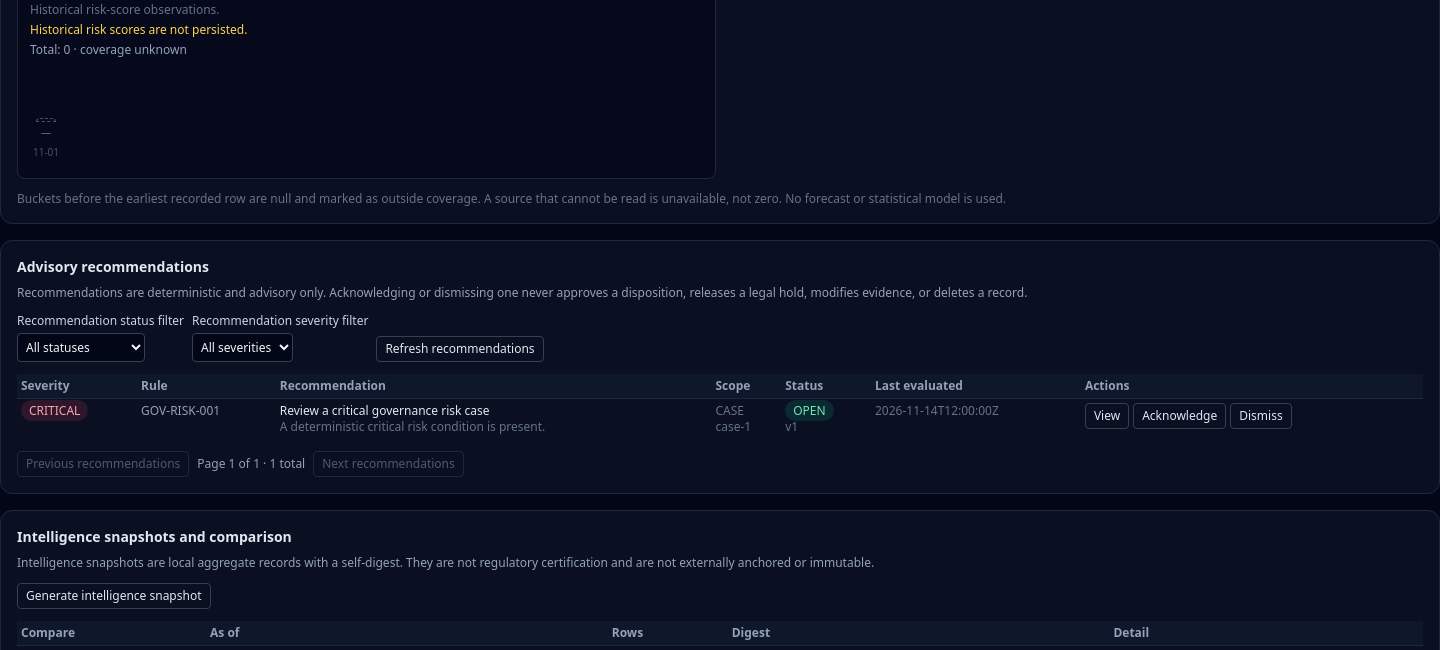
Test: IntelligenceWorkspace › requires an explicit reason before dismissing and sends the expected version
(page scrolled)
Step 1. Click the button "Dismiss" → (1261, 416), box [1230, 403, 1292, 429]
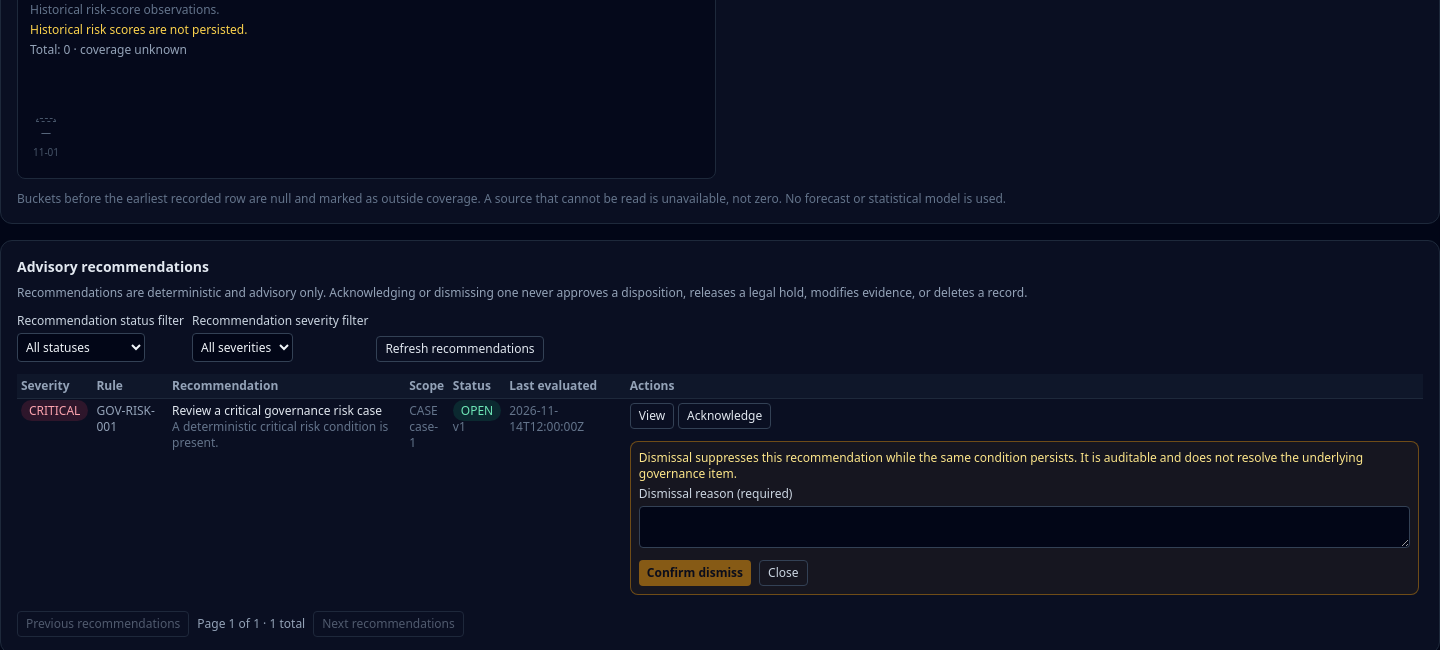
expect the text "Dismissal suppresses this recommendation" is shown: met, box [639, 449, 1363, 482]
expect the button "Confirm dismiss" is disabled: met, box [639, 560, 751, 586]
Step 2. Type "Duplicate of an existing review task." into the text box labelled "Dismissal reason (required)" → (1024, 527), box [639, 506, 1410, 548]
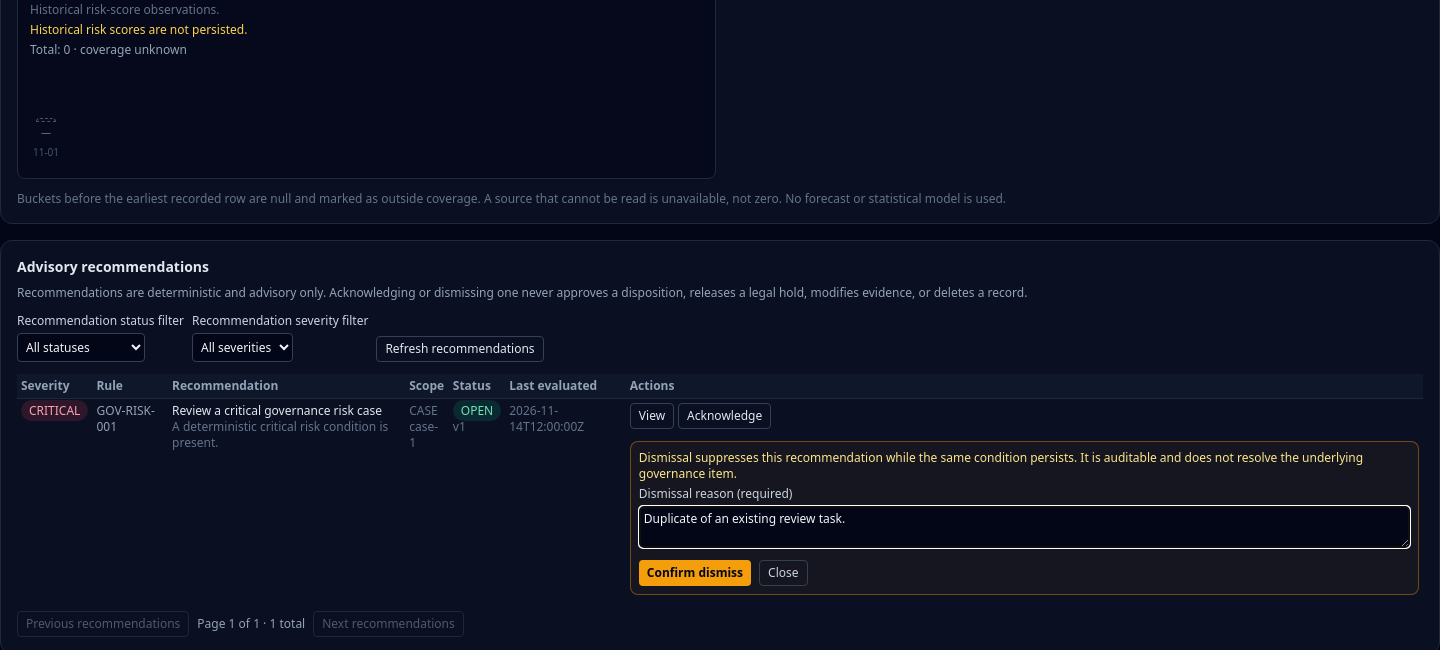
Step 3. Click the button "Confirm dismiss" → (695, 573), box [639, 560, 751, 586]
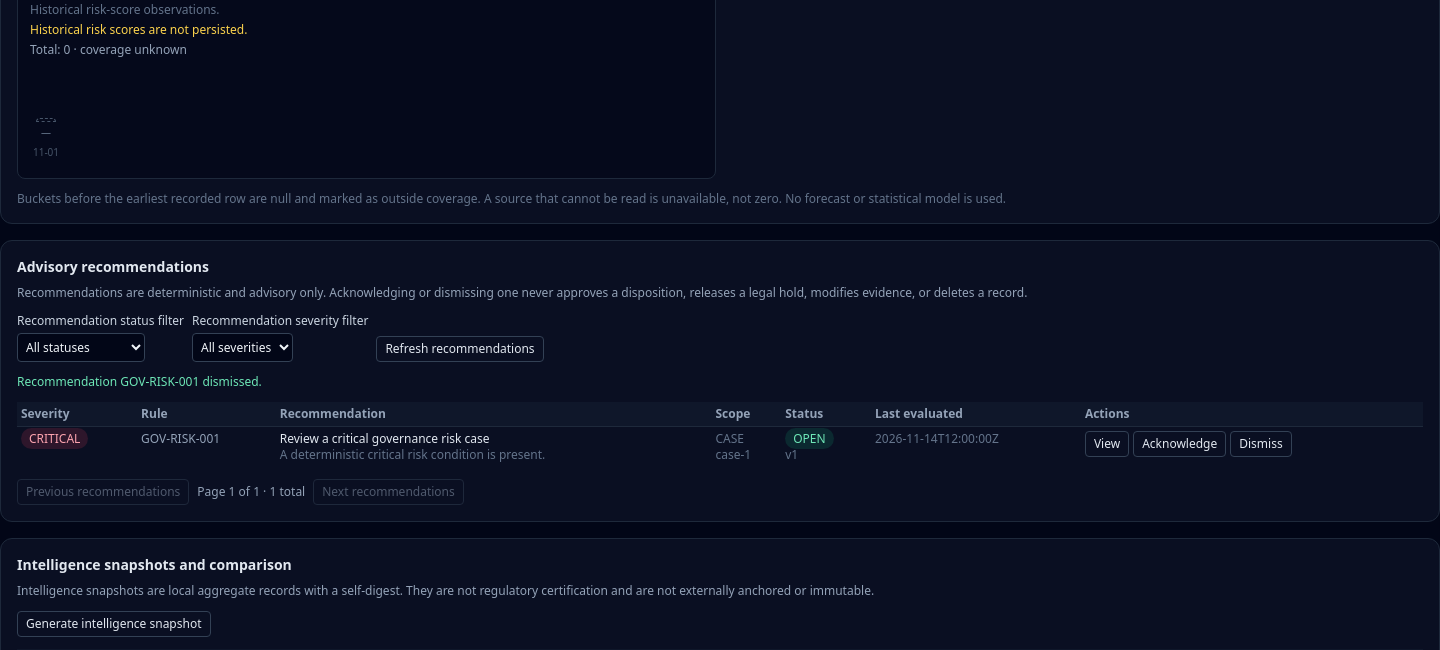
expect the text "Recommendation GOV-RISK-001 dismissed." is shown: met, box [17, 373, 262, 390]
